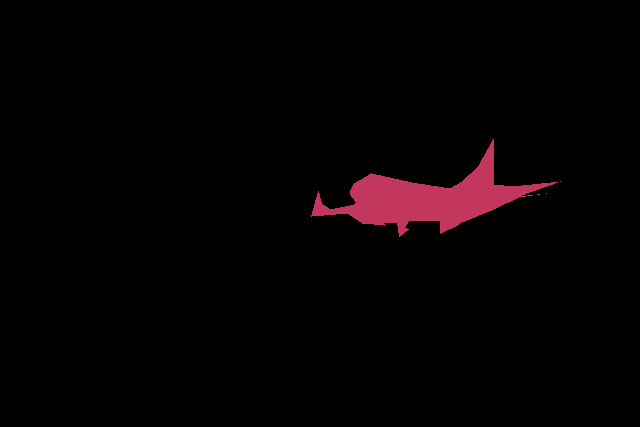Airplane: (311, 139, 560, 236)
